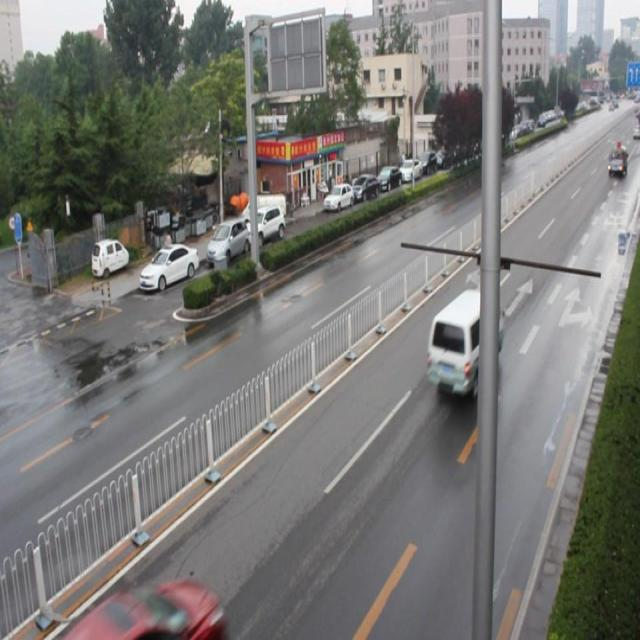truck: (429, 289, 503, 402)
